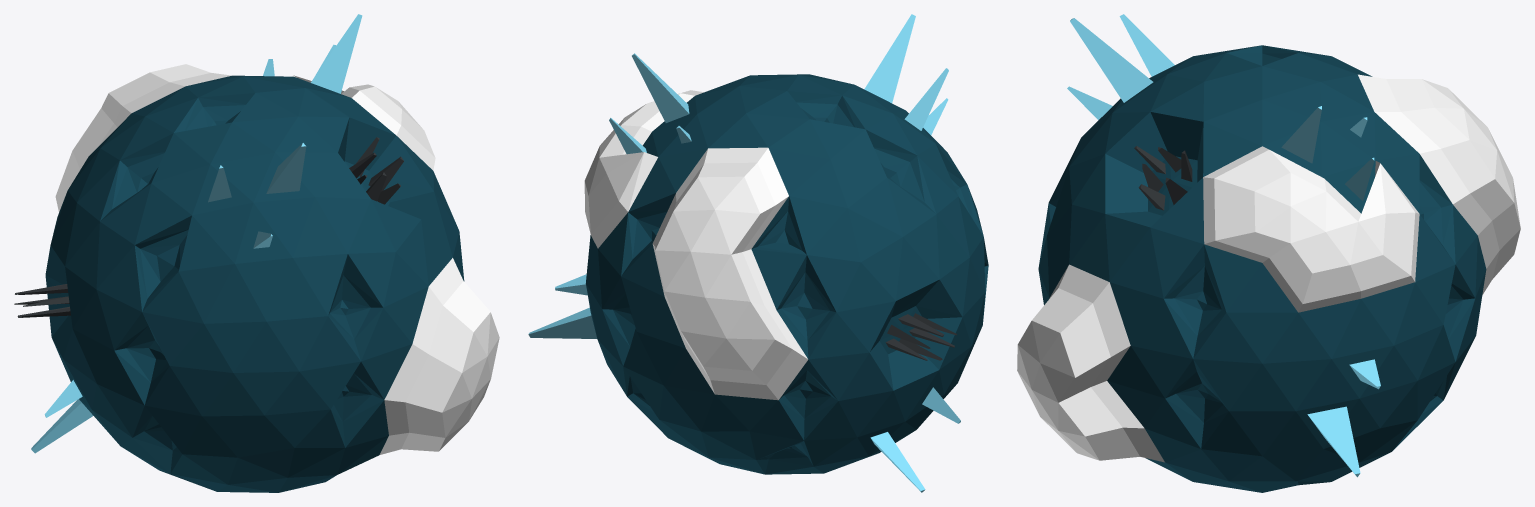
Rendered from Ice-Planet_Stage_02.FBX.
3 views of the same model, side by side, from view 1: azimuth 30°, elevation 25°; view 2: azimuth 150°, elevation 25°; view 3: azimuth 270°, elevation 25° (orthographic). The views are drawn at different scales.
Visible parts, largest first — view 1: Ice_Planet_Stage_2; view 2: Ice_Planet_Stage_2; view 3: Ice_Planet_Stage_2.
Part boxes in pixels (left/top/right/bottom): Ice_Planet_Stage_2: left=14, top=14, right=499, bottom=492; Ice_Planet_Stage_2: left=528, top=14, right=988, bottom=492; Ice_Planet_Stage_2: left=1017, top=14, right=1520, bottom=492.
Bounding box in the file's own units: 94.01 × 85.53 × 89.96.
Materials: 4 (4 with a texture image).
